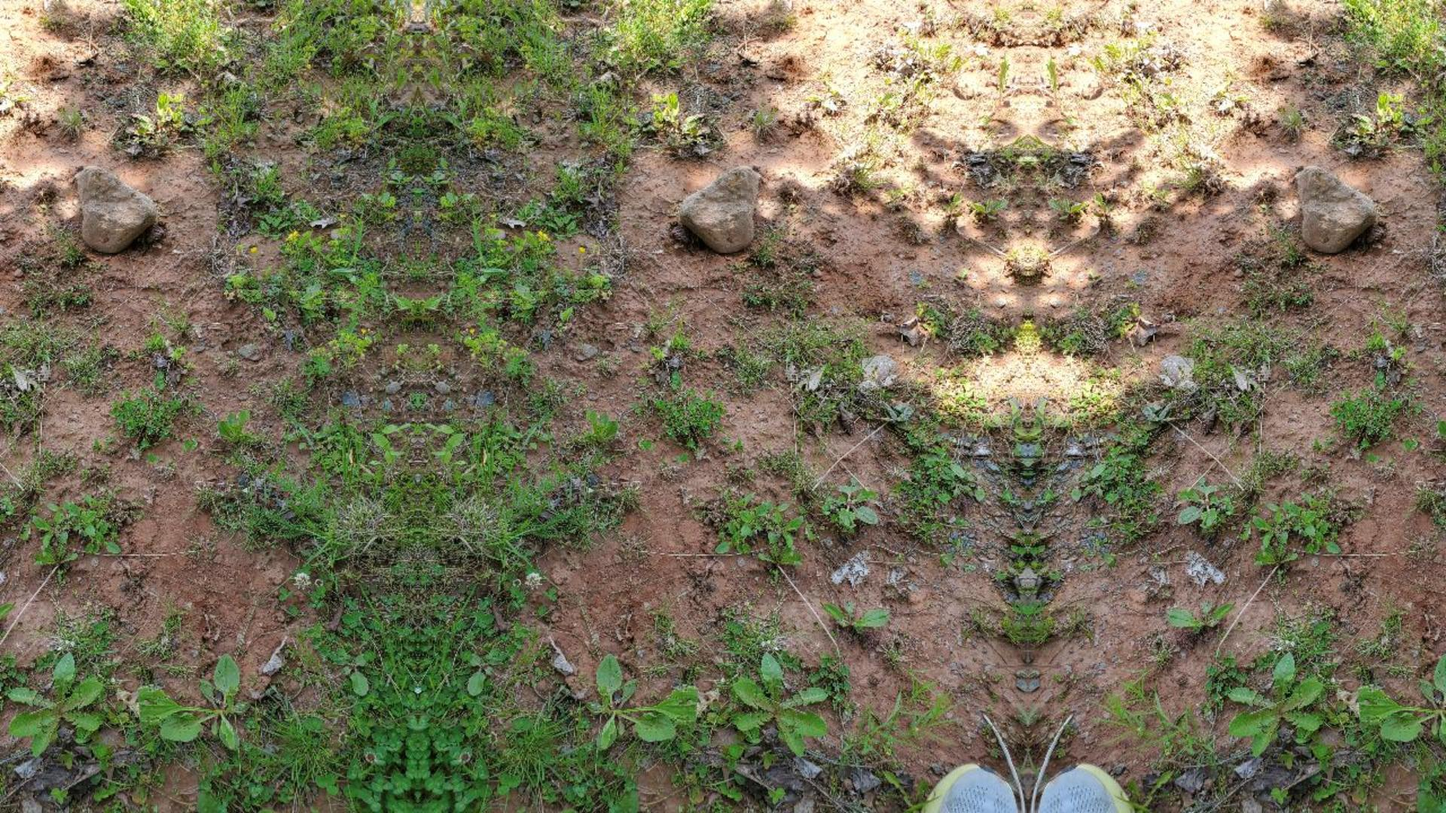rock: (679, 166, 760, 253), (75, 166, 156, 253), (1296, 166, 1376, 253)
